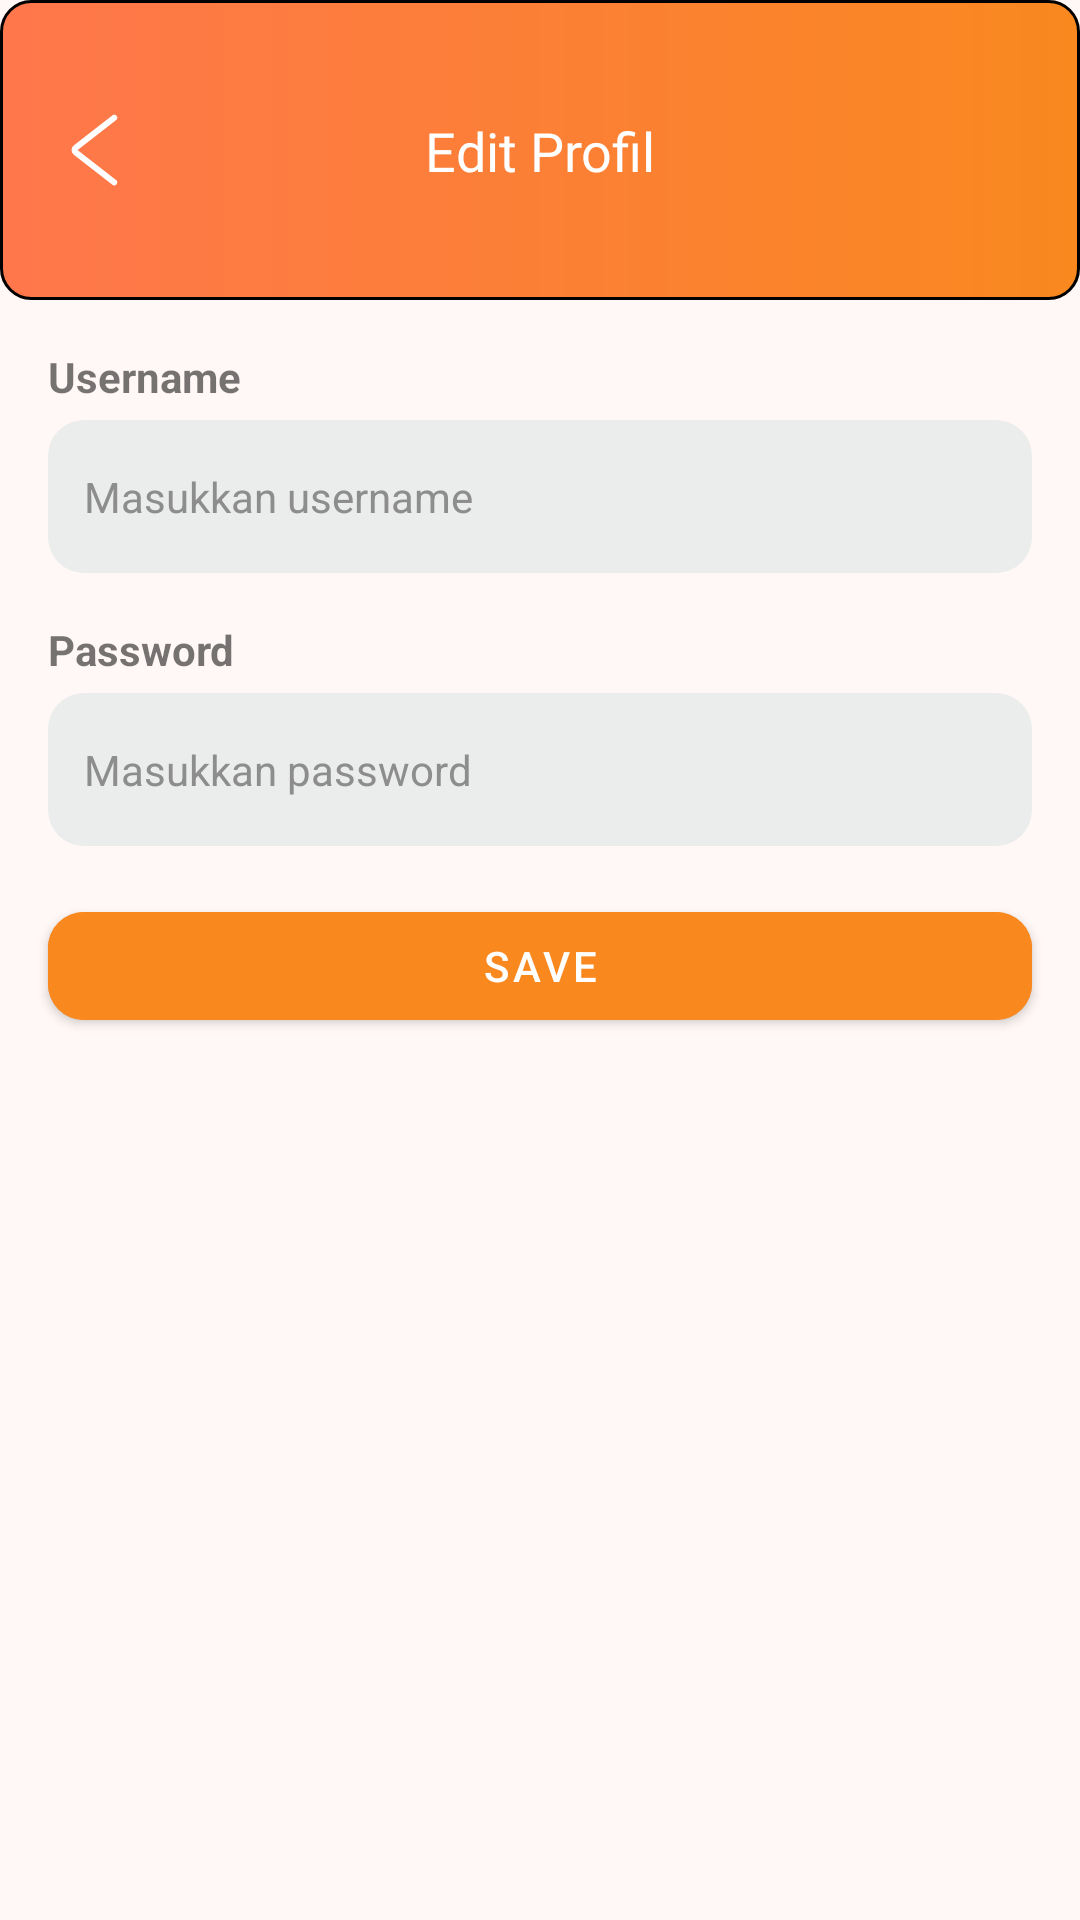

Icons on this 1080×1920 Android screen, each with its box as (x1, y1, x2, y2):
arrow left: (71, 114, 118, 186)
